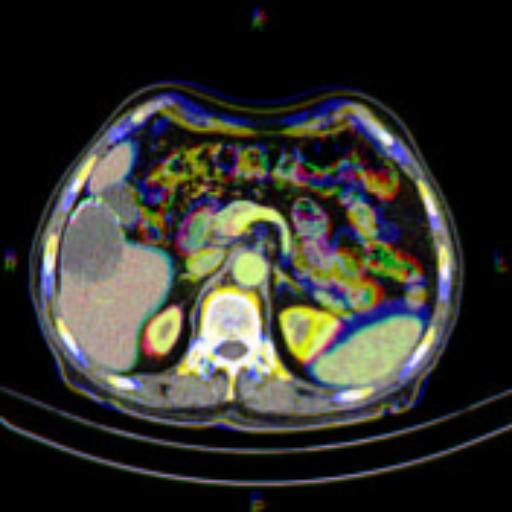Cyst: (63, 204, 122, 284), (102, 184, 136, 222)
